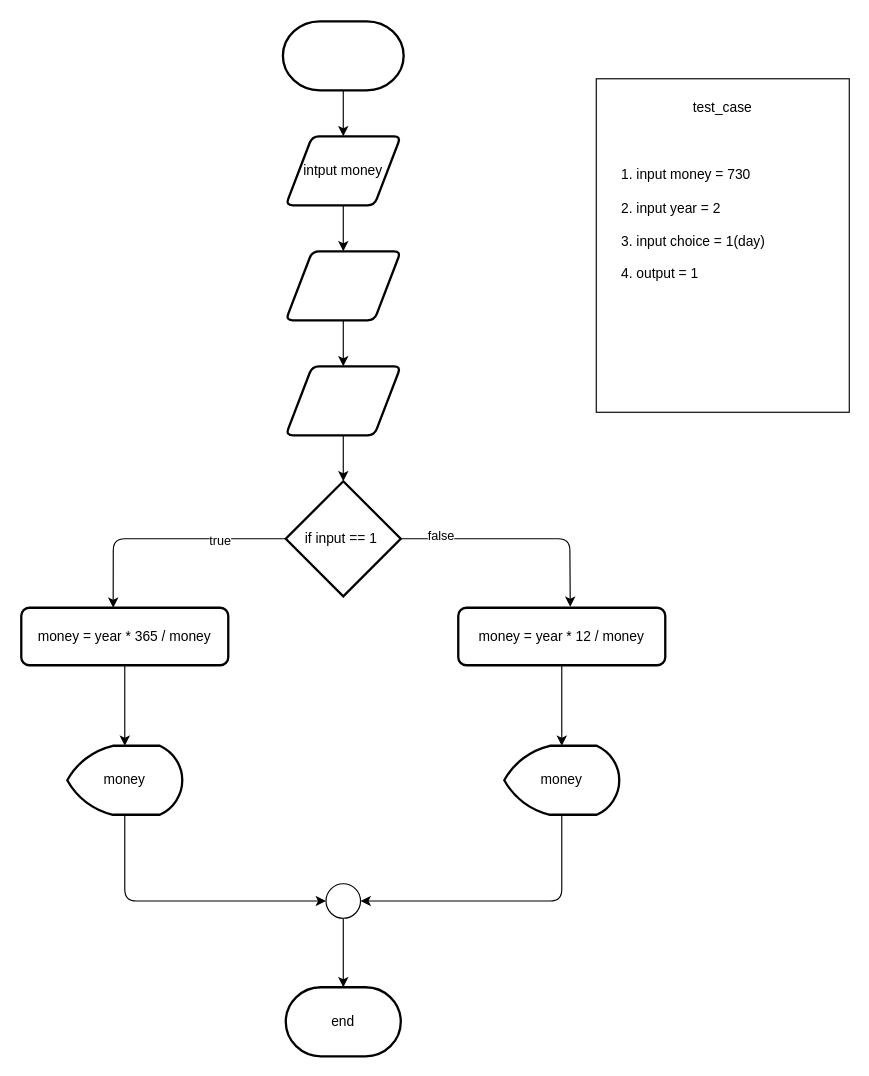
Some shapes in this 869 by 1076 pixel diagram are drawn without their labels. The shapes that lost their labels are listed below. From the top down, each one's centre as x and y in pixels, then its label:
At point 342,55: "start".
At point 342,285: "intput year".
At point 342,400: "input choie".
